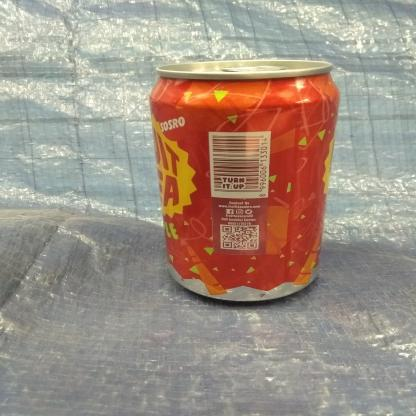mouse: (144, 53, 345, 305)
